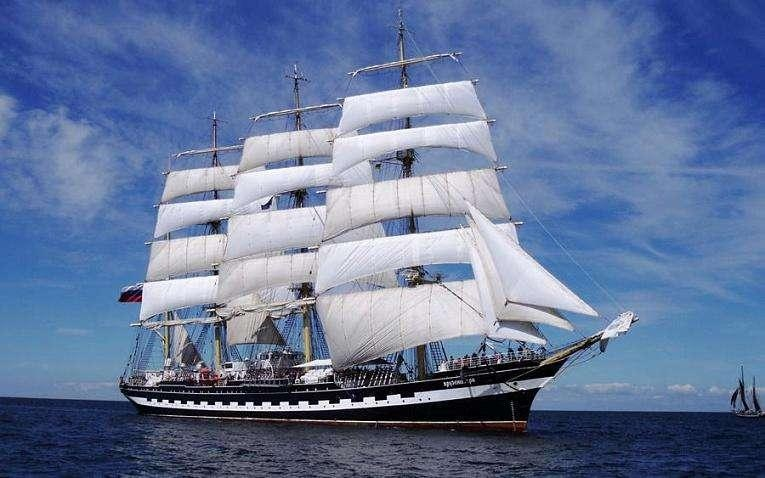fanchuan: (117, 14, 640, 427)
